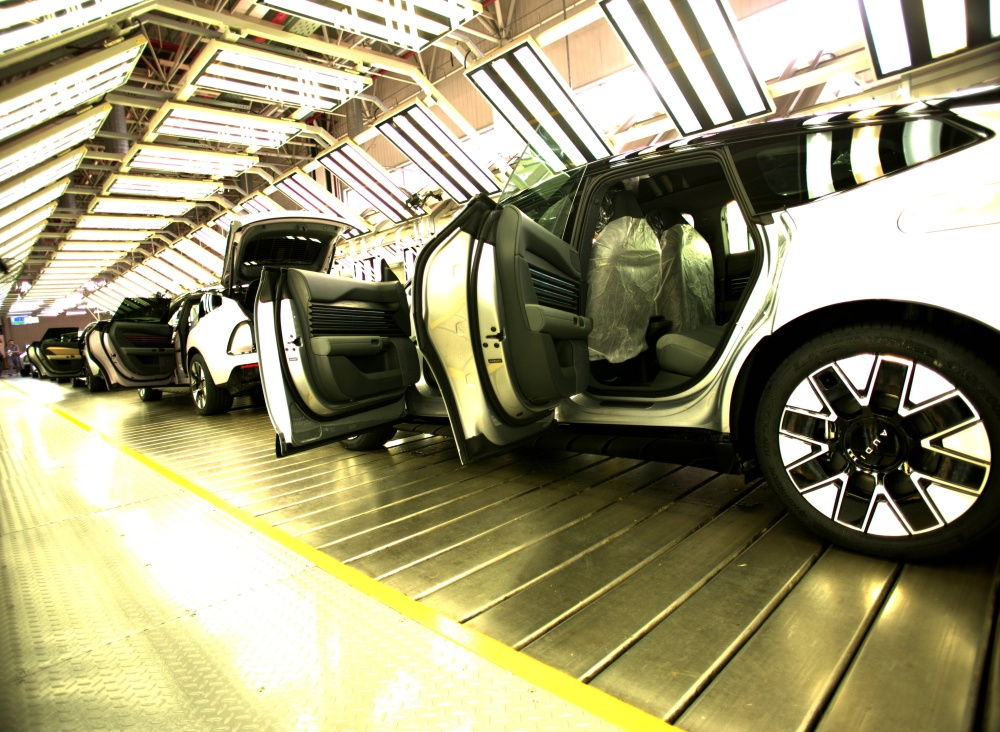armrest_color: (523, 302, 595, 338), (308, 336, 395, 355)
panel_color: (526, 260, 583, 315), (307, 298, 387, 330)
